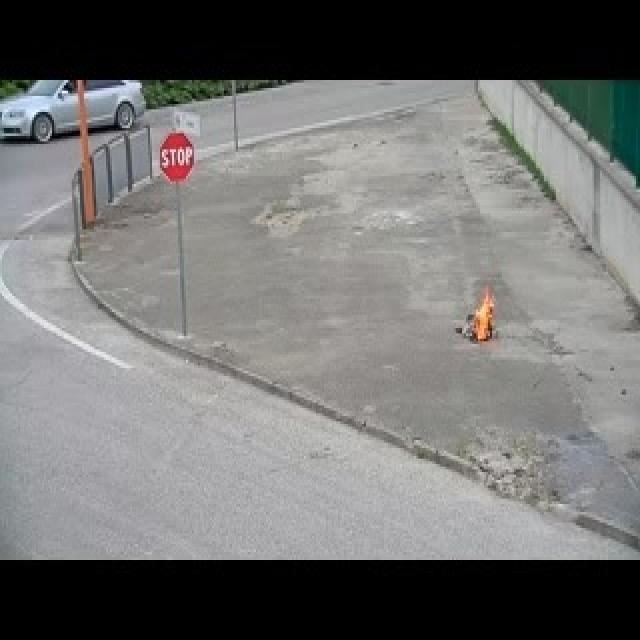fire: (473, 294, 497, 344)
